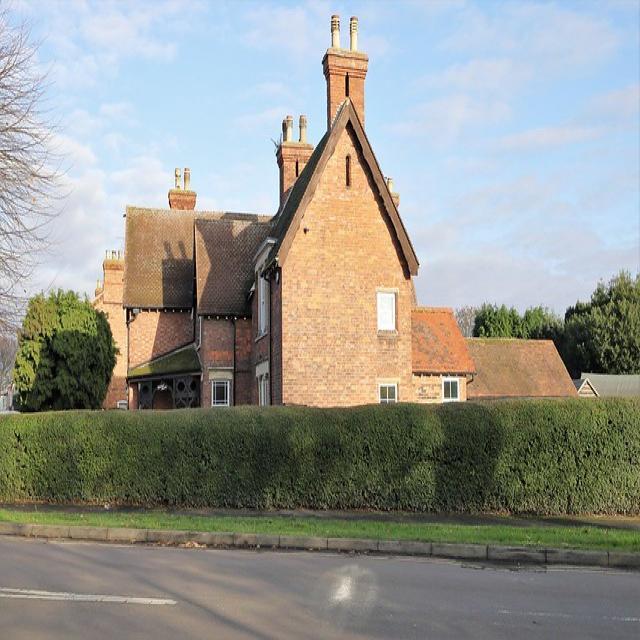Normal_building: (83, 38, 480, 410)
